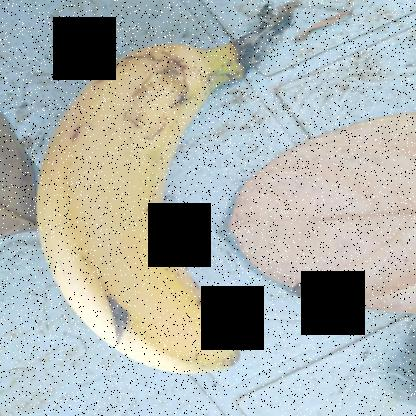ripe: (8, 51, 262, 386)
